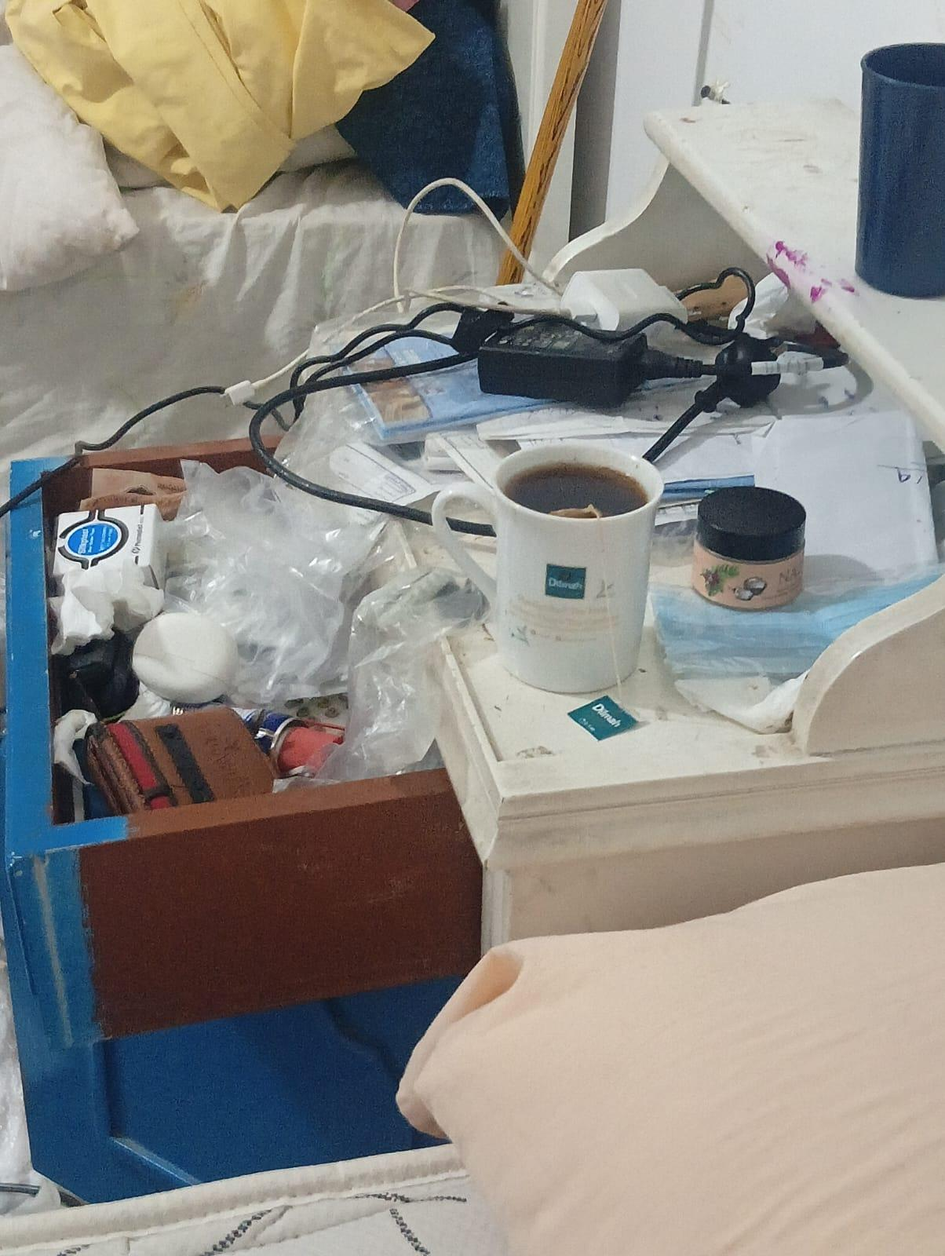cup: (432, 442, 662, 693), (856, 42, 944, 298), (528, 440, 651, 513), (860, 42, 944, 92)
